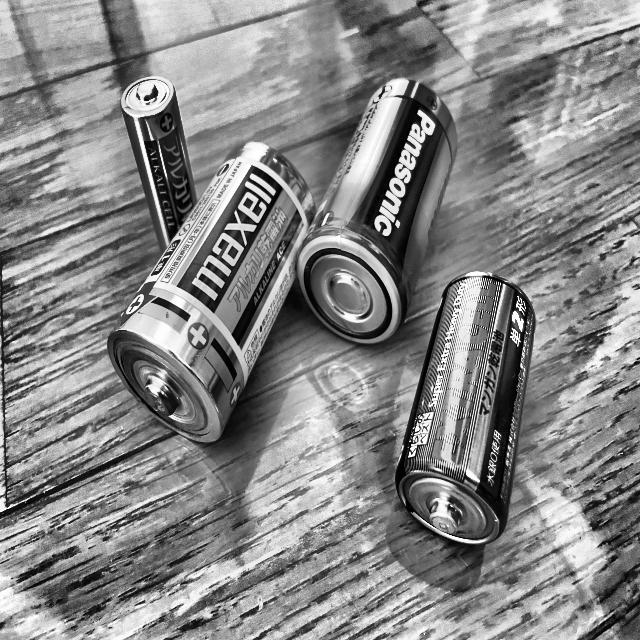drycell: (100, 134, 323, 451), (115, 60, 212, 285)
